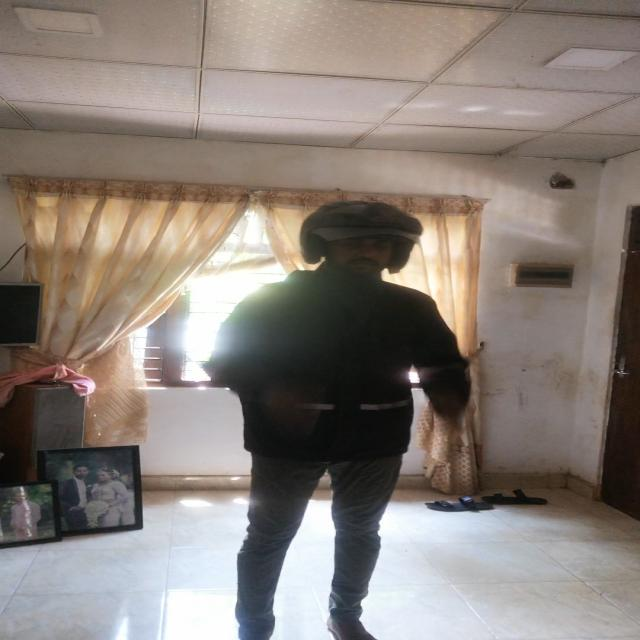Helmet_Wearer: (288, 198, 431, 286)
Jacket_Wearer: (209, 196, 477, 632), (180, 263, 484, 467)
